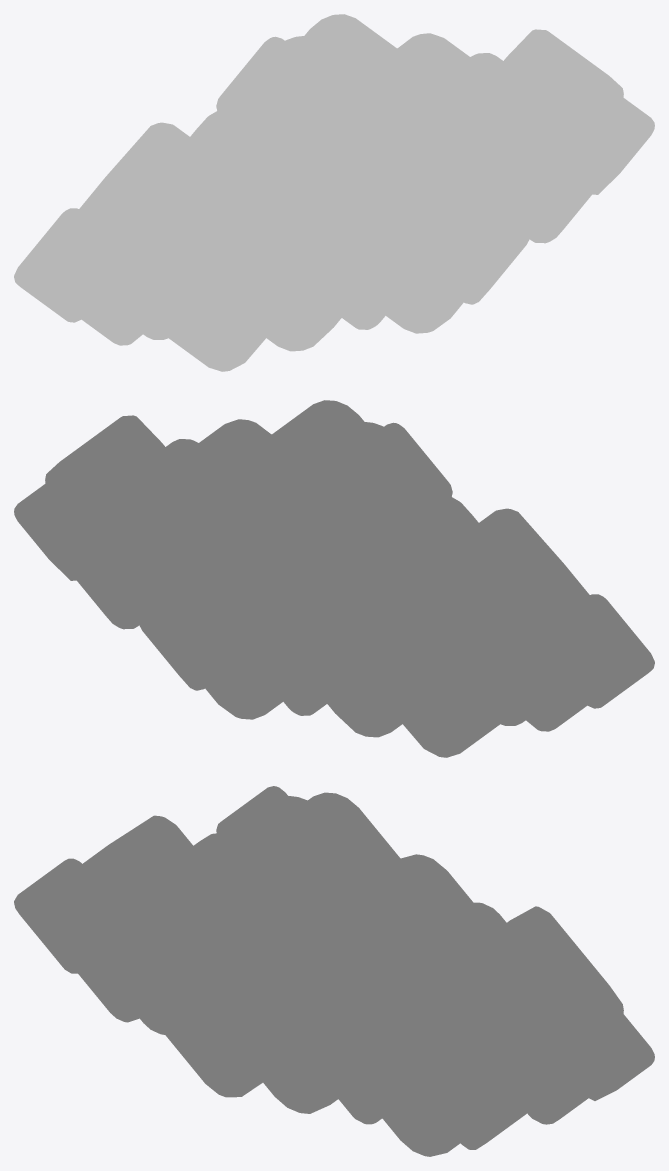
The model's file is Cloud_2.obj.
3 renders of one model, top to bottom at view 1: azimuth 30°, elevation 25°; view 2: azimuth 150°, elevation 25°; view 3: azimuth 330°, elevation 25°, orthographic.
Visible parts, largest first — view 1: Cloud_2; view 2: Cloud_2; view 3: Cloud_2.
Boxes of the visible parts, x1,y1,x2,y2 form: Cloud_2: (14,14,654,371); Cloud_2: (14,400,654,757); Cloud_2: (14,786,654,1156).
Size of the model in its own units: 34.31 by 17.37 by 0.3123.
1 material, 1 textured.
